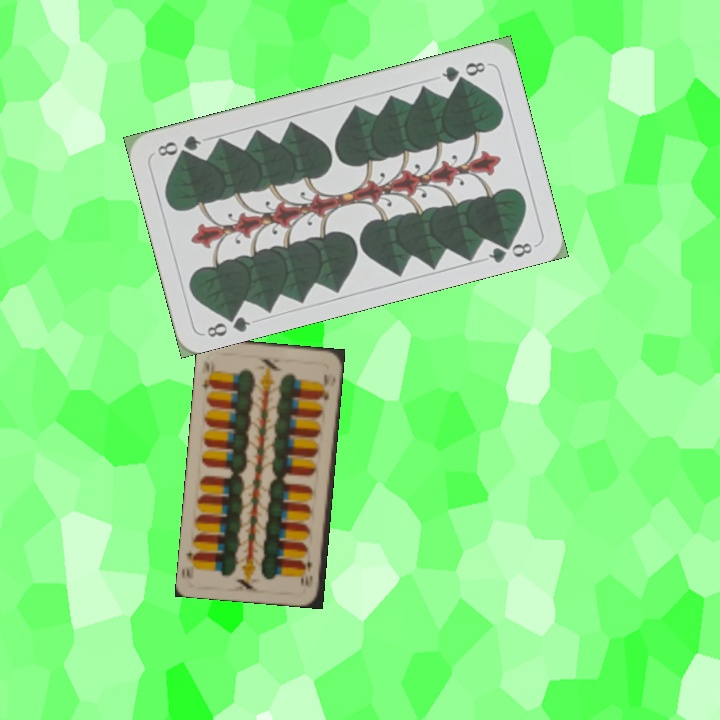E10: (198, 357, 216, 392), (301, 557, 315, 590)
G8: (203, 306, 253, 340), (437, 57, 488, 85)
